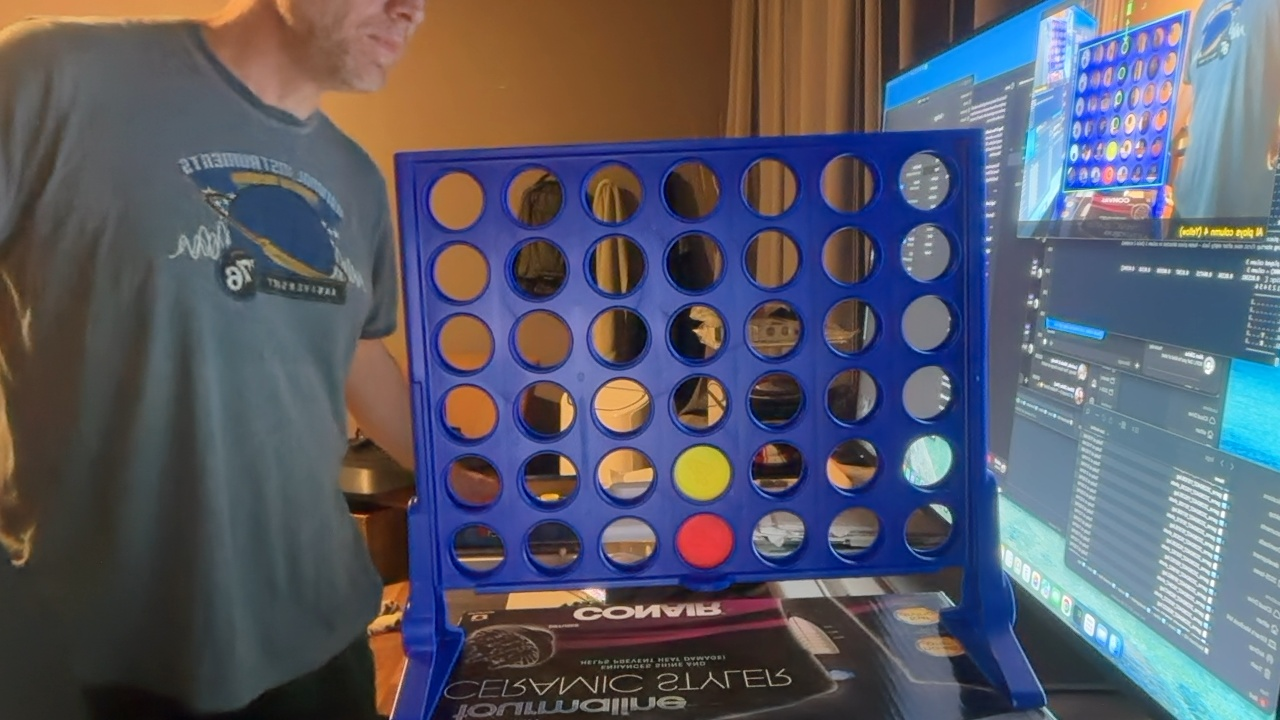red piece: (676, 513, 733, 569)
yellow piece: (673, 445, 731, 501)
